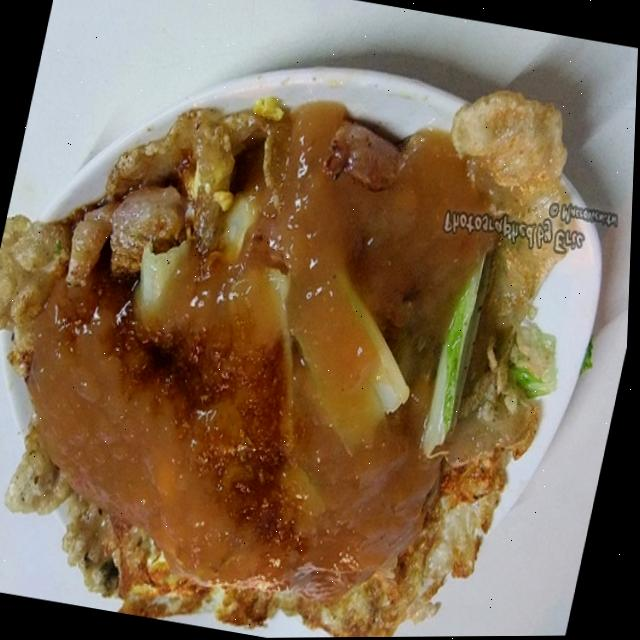熟制海鲜: (0, 26, 613, 629)
